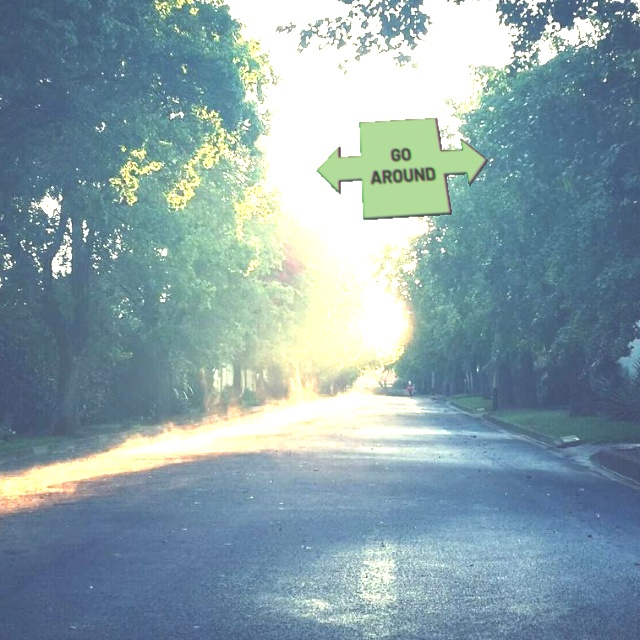GO_AROUND: (316, 117, 488, 220)
